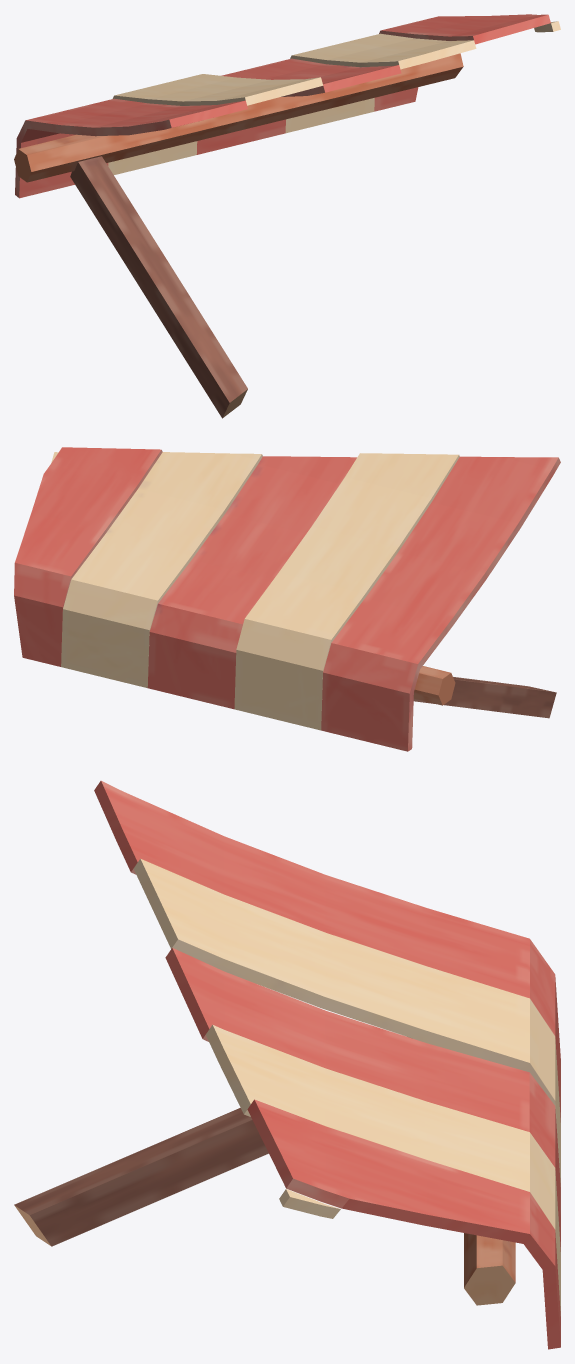
Rendered from awning_s02.fbx.
The picture shows the model from 3 angles, top to bottom: view 1: azimuth 30°, elevation 25°; view 2: azimuth 150°, elevation 25°; view 3: azimuth 270°, elevation 25°; orthographic projection. The views are drawn at different scales.
Parts seen in each view (by area): view 1: awning_s02; view 2: awning_s02; view 3: awning_s02.
Part boxes in pixels (x1=…): awning_s02: x1=14, y1=14, x2=560, y2=418; awning_s02: x1=14, y1=447, x2=560, y2=751; awning_s02: x1=14, y1=780, x2=560, y2=1349.
Size of the model in its own units: 4.36 by 2.58 by 2.96.
